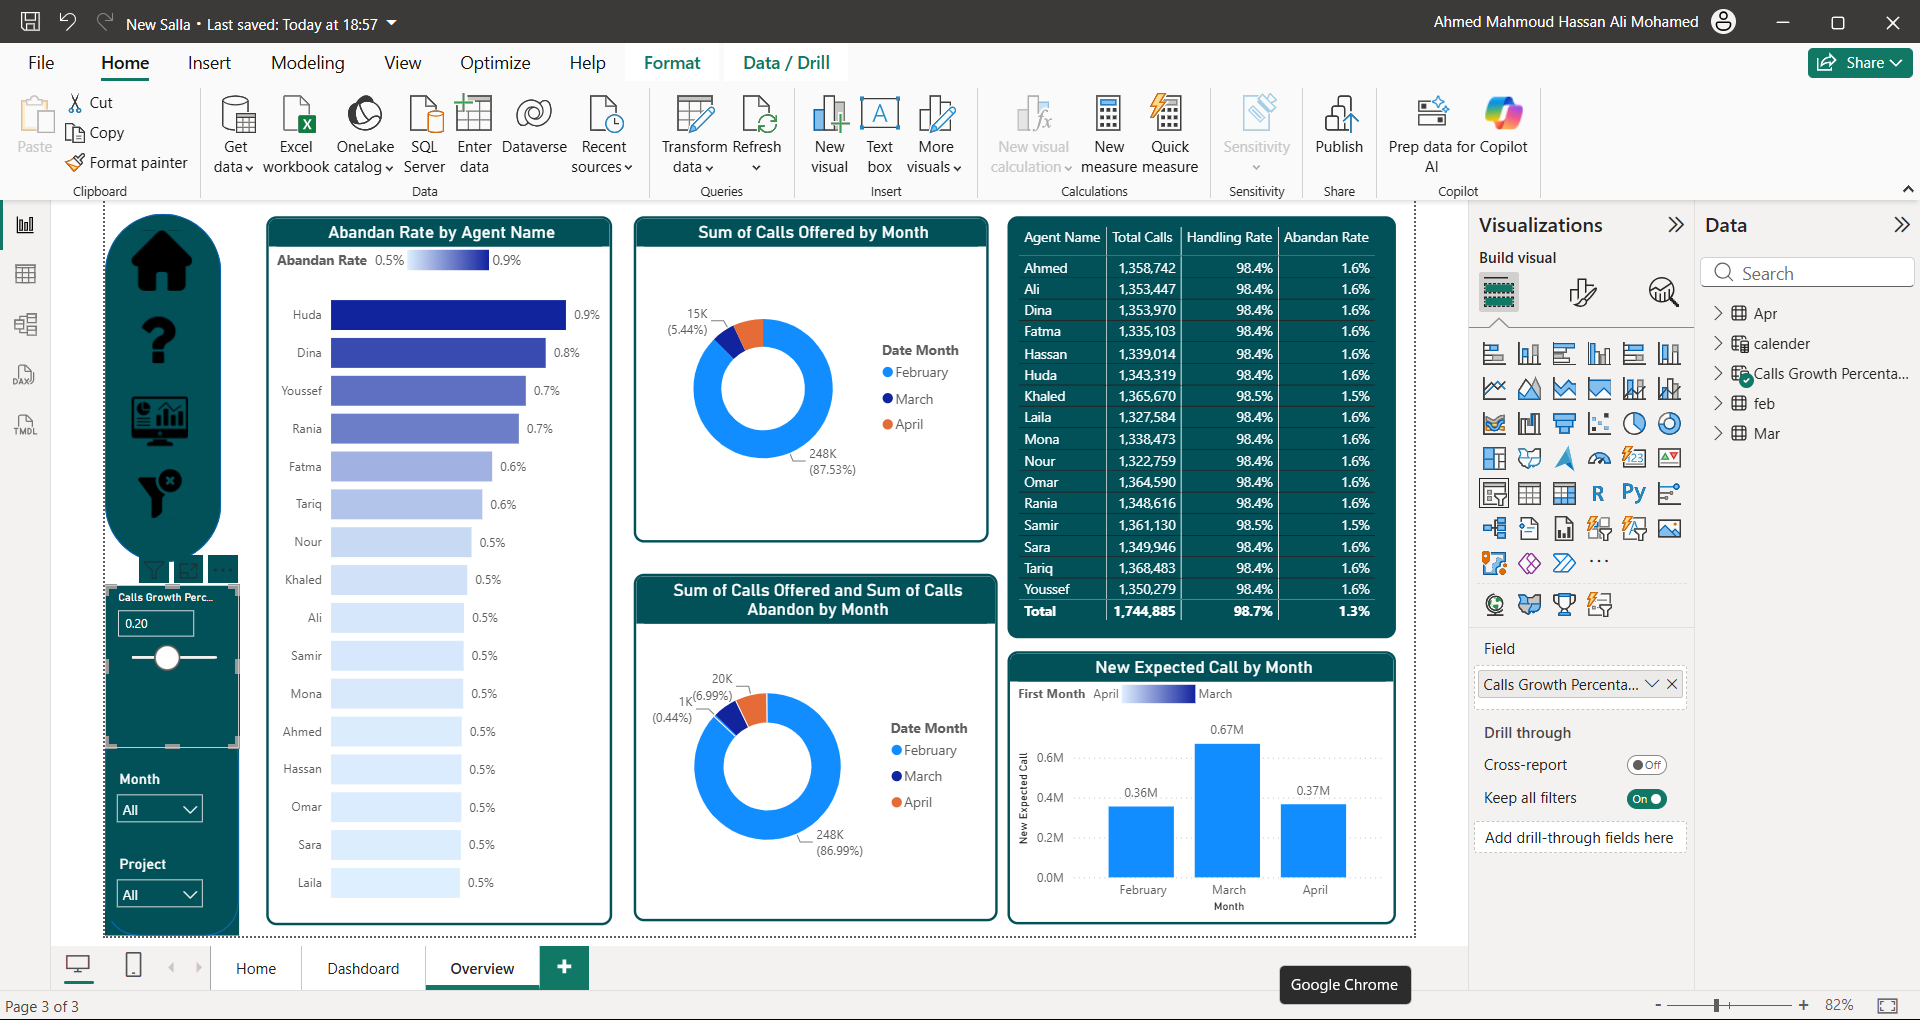

This screenshot's page, from the dashboard's own definition file:
{"tool":"powerbi","page":{"name":"Overview","canvas":[1280,720],"ordinal":2},"visuals":[{"type":"barChart","fields":{"Category":["Mar.Agent Name"],"Y":["Apr.Abandan Rate"]},"box":[157.7,15.9,338.7,693.3],"z":0},{"type":"donutChart","fields":{"Y":["Sum(feb.Calls Offered)"],"Category":["calender.Date.Variation.Date Hierarchy.Month"]},"box":[517.3,15.9,347.3,319.2],"z":1000},{"type":"donutChart","fields":{"Y":["Sum(feb.Calls Offered)","Sum(feb.Calls Abandon)"],"Category":["calender.Date.Variation.Date Hierarchy.Month"]},"box":[517.3,365.6,355.8,339.9],"z":2000},{"type":"shape","box":[0,13.5,113.7,341.2],"z":3000},{"type":"actionButton","box":[22,25.7,72.1,67.3],"z":4000},{"type":"actionButton","box":[25.7,110.1,80.7,53.8],"z":5000},{"type":"actionButton","box":[22,184.6,70.9,63.6],"z":6000},{"type":"shape","box":[0,512.2,130.8,207.4],"z":7000},{"type":"slicer","fields":{"Values":["feb.Project"]},"box":[1.4,636.1,104.4,69.6],"z":8000},{"type":"slicer","fields":{"Values":["calender.Date.Variation.Date Hierarchy.Month"]},"box":[1.4,552.6,104.4,64],"z":9000},{"type":"actionButton","box":[25.7,259.2,70.9,56.3],"z":11000},{"type":"tableEx","fields":{"Values":["Apr.Agent Name","calender.Total Calls","calender.Handling Rate","Apr.Abandan Rate"]},"box":[882.3,16.5,380.1,413],"z":12000},{"type":"columnChart","fields":{"Category":["calender.Date.Variation.Date Hierarchy.Month"],"Y":["Apr.New Expected Call"]},"box":[882.3,441.9,380.1,267.6],"z":13000},{"type":"slicer","fields":{"Values":["Calls Growth Percentage.Calls Growth Percentage"]},"box":[0,365.6,130.8,159],"z":14000}]}

Visuals, with their boxes on the page's 1280x720 design canvas (x1, y1, x2, y2). These are canvas units, not pixel positions in the 1920x1020 screenshot, which may show the page scaled, cropped or inside an application window:
barChart - Mar.Agent Name x Apr.Abandan Rate: <region>158, 16, 496, 709</region>
donutChart - Sum(feb.Calls Offered) x calender.Date.Variation.Date Hierarchy.Month: <region>517, 16, 865, 335</region>
donutChart - Sum(feb.Calls Offered) x Sum(feb.Calls Abandon): <region>517, 366, 873, 706</region>
shape: <region>0, 14, 114, 355</region>
actionButton: <region>22, 26, 94, 93</region>
actionButton: <region>26, 110, 106, 164</region>
actionButton: <region>22, 185, 93, 248</region>
shape: <region>0, 512, 131, 720</region>
slicer - feb.Project: <region>1, 636, 106, 706</region>
slicer - calender.Date.Variation.Date Hierarchy.Month: <region>1, 553, 106, 617</region>
actionButton: <region>26, 259, 97, 316</region>
tableEx - Apr.Agent Name x calender.Total Calls: <region>882, 16, 1262, 430</region>
columnChart - calender.Date.Variation.Date Hierarchy.Month x Apr.New Expected Call: <region>882, 442, 1262, 710</region>
slicer - Calls Growth Percentage.Calls Growth Percentage: <region>0, 366, 131, 525</region>
